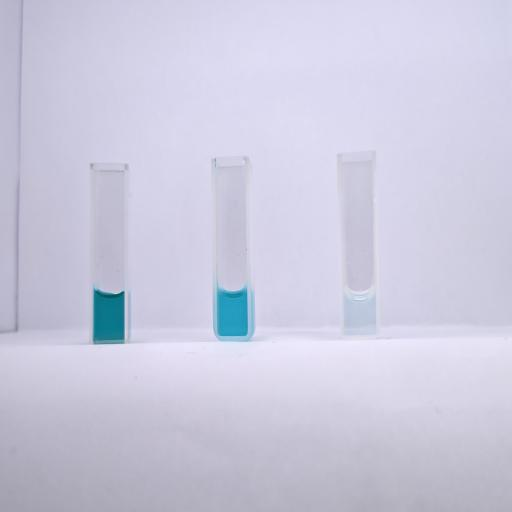cuvette: (335, 149, 381, 340), (209, 154, 254, 342), (88, 161, 130, 344)
liquid: (217, 287, 248, 336), (94, 291, 124, 340), (344, 289, 375, 334)
